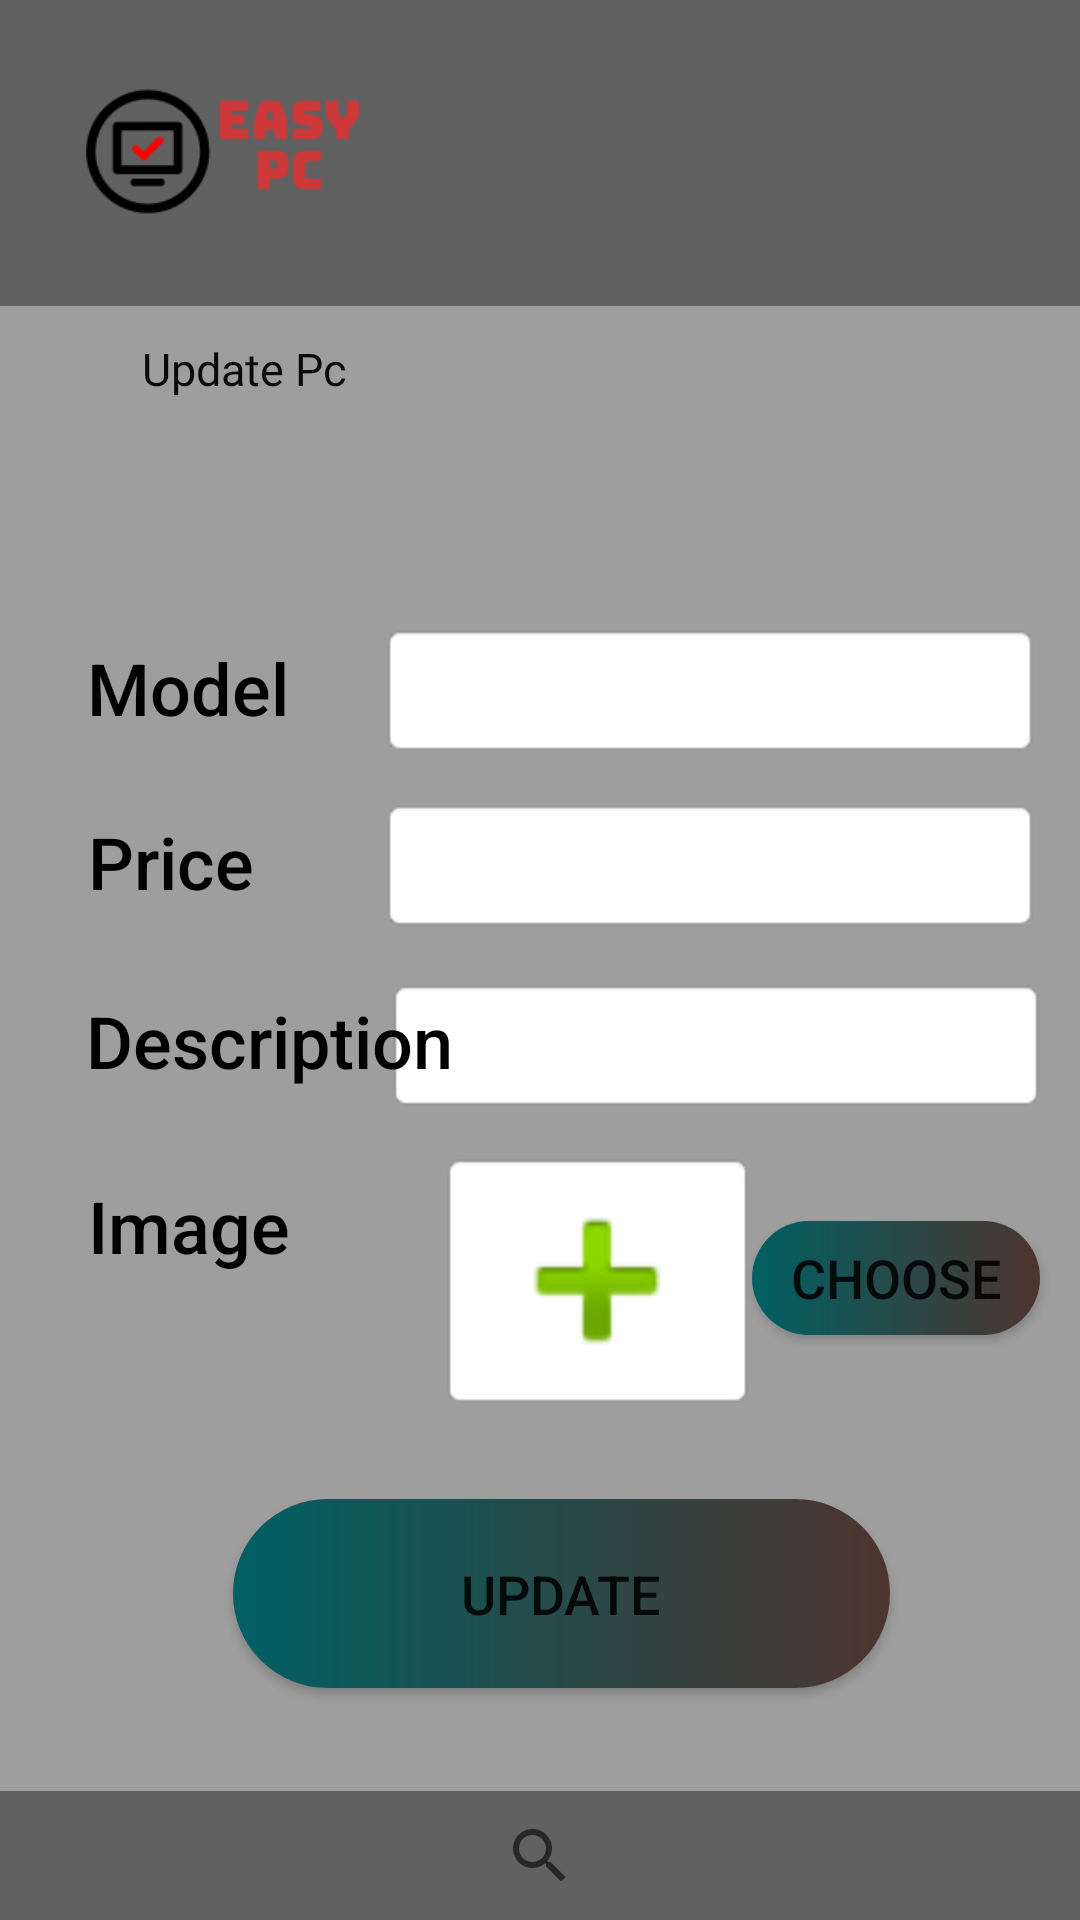

Named icons in this screenshot (1080×1920) and their centers, point (x, y):
add: point (597, 1281)
